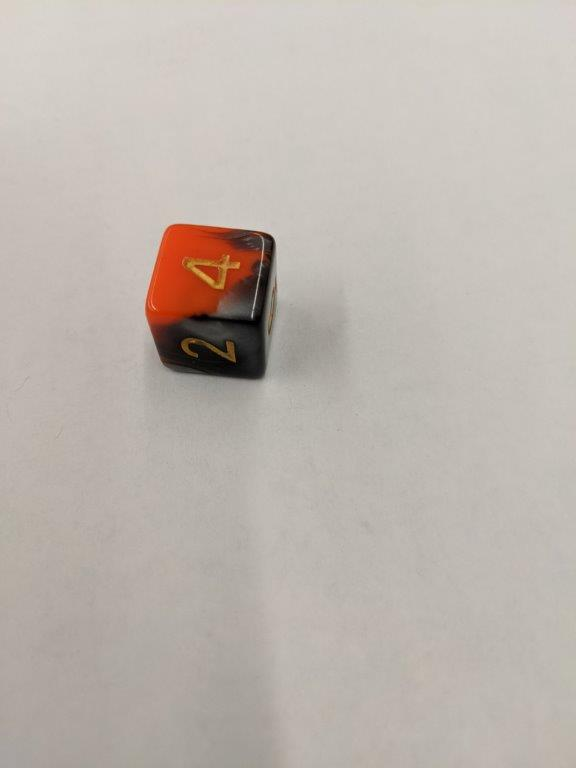d6-4: (142, 222, 279, 384)
